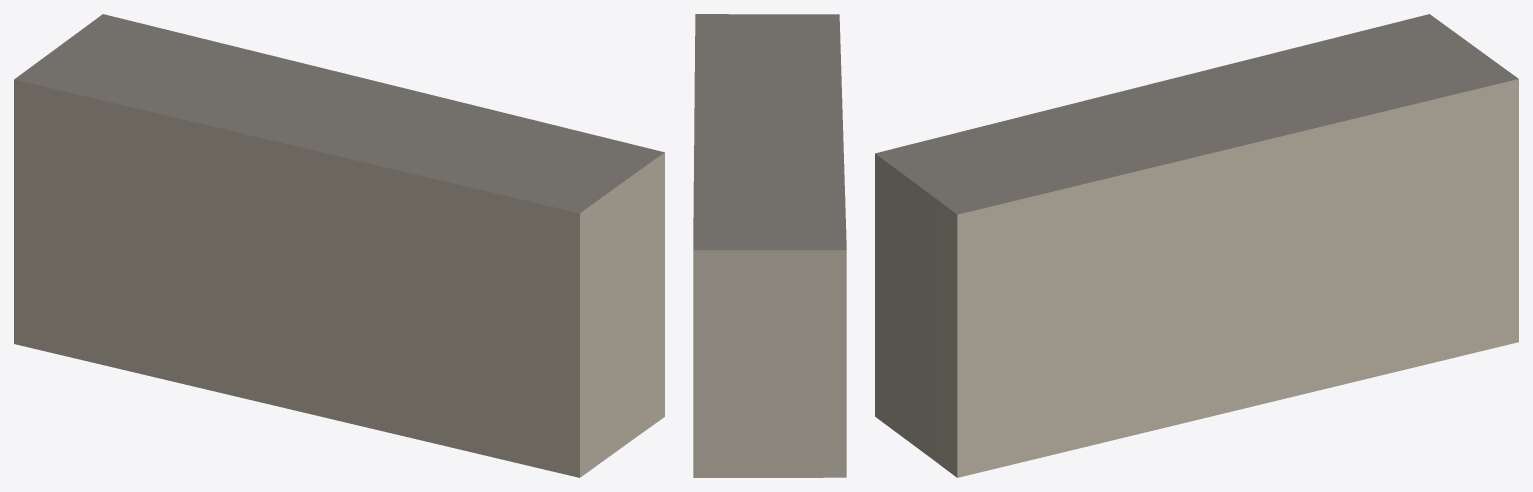
3 views of the same model, side by side, from view 1: azimuth 30°, elevation 25°; view 2: azimuth 150°, elevation 25°; view 3: azimuth 270°, elevation 25° (orthographic). The views are drawn at different scales.
Parts seen in each view (by area): view 1: HP-w378107097; view 2: HP-w378107097; view 3: HP-w378107097.
Boxes of the visible parts, left/top/right/bottom form: HP-w378107097: left=14, top=14, right=664, bottom=477; HP-w378107097: left=693, top=14, right=846, bottom=477; HP-w378107097: left=875, top=14, right=1518, bottom=477.
Bounding box in the file's own units: 29.43 × 18 × 39.9.
